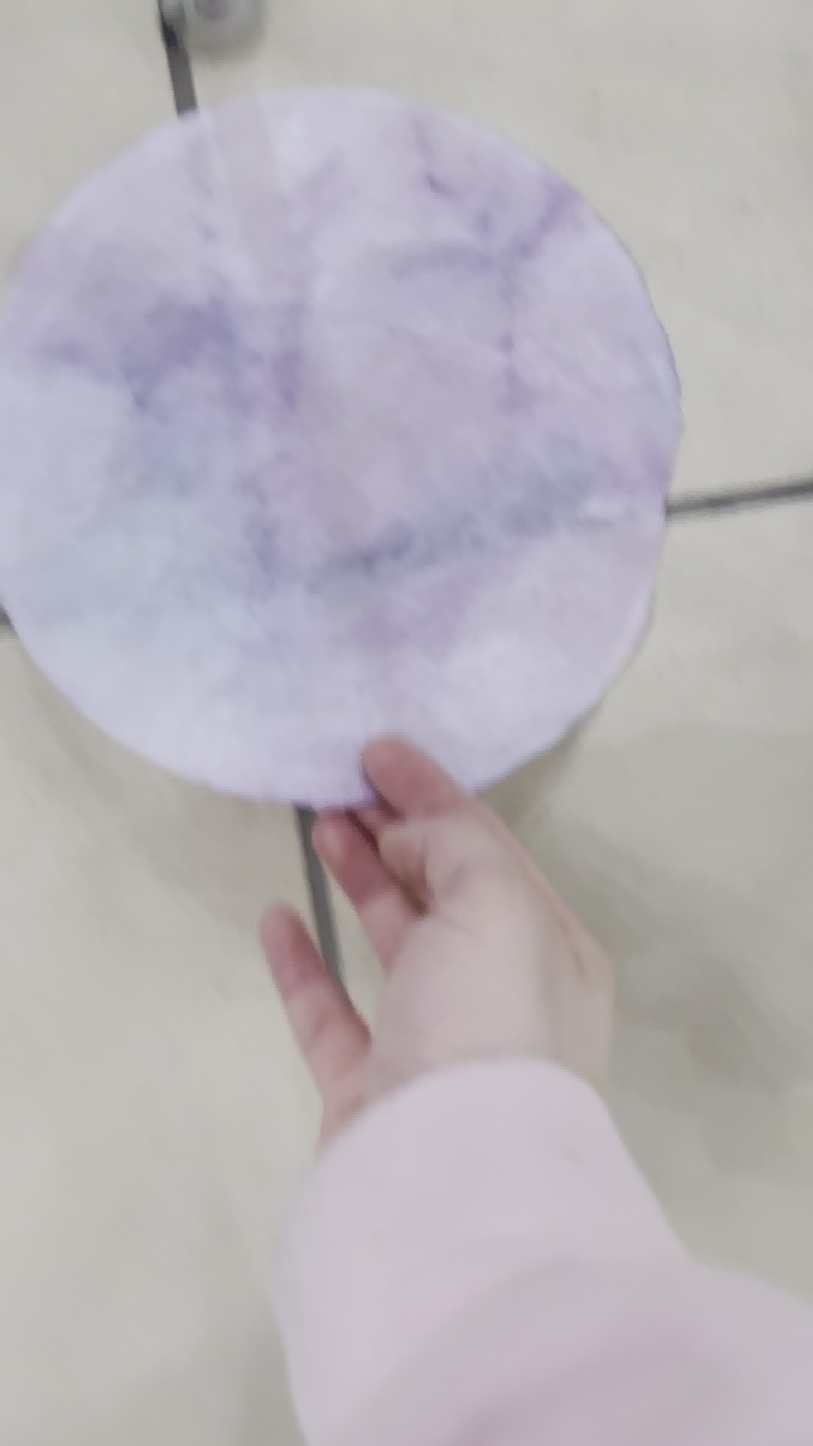Target: (0, 85, 678, 817)
